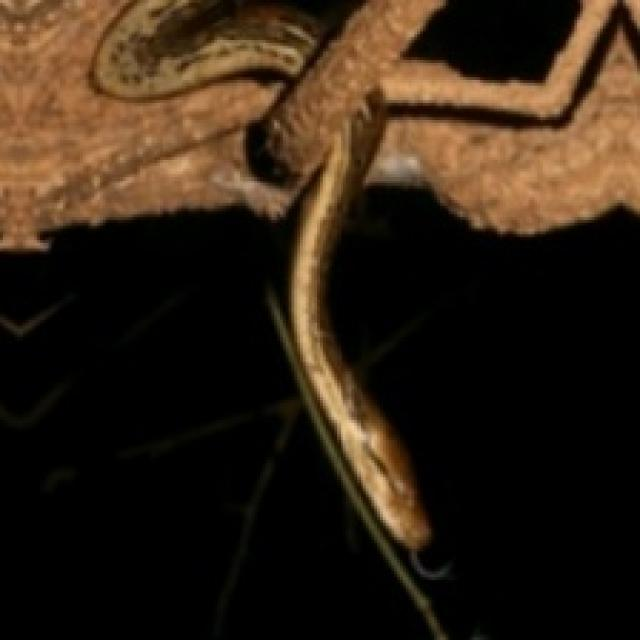reticulated python: (282, 88, 431, 552), (92, 0, 324, 98)
